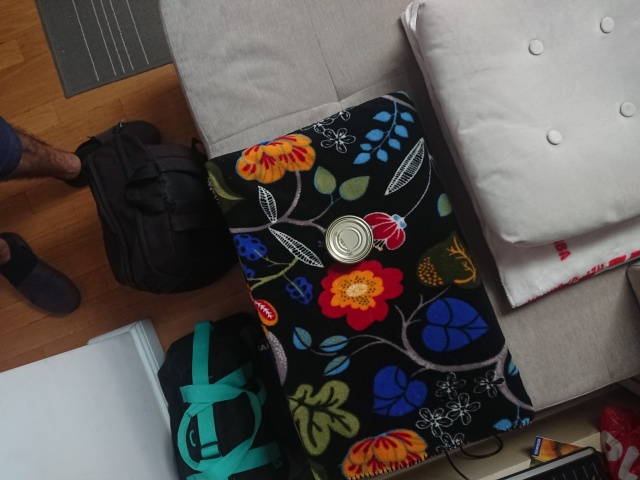Giana Tuna Salad Mexico 185g: (323, 213, 375, 266)
